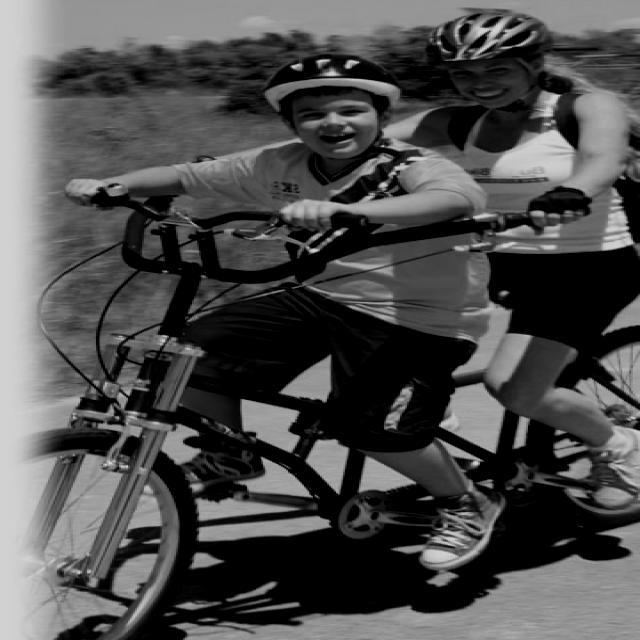Helmet: (261, 47, 402, 159), (430, 12, 551, 109)
